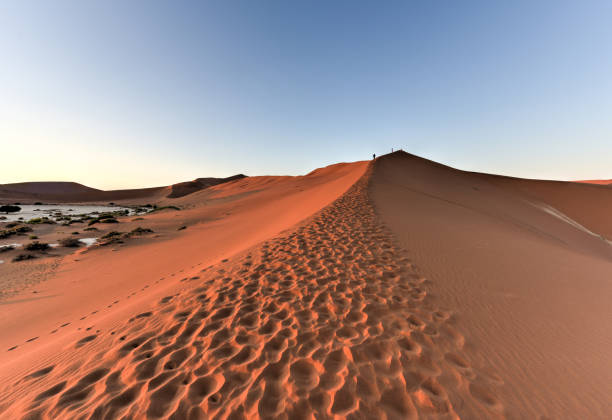human_footprint: (5, 176, 502, 418)
